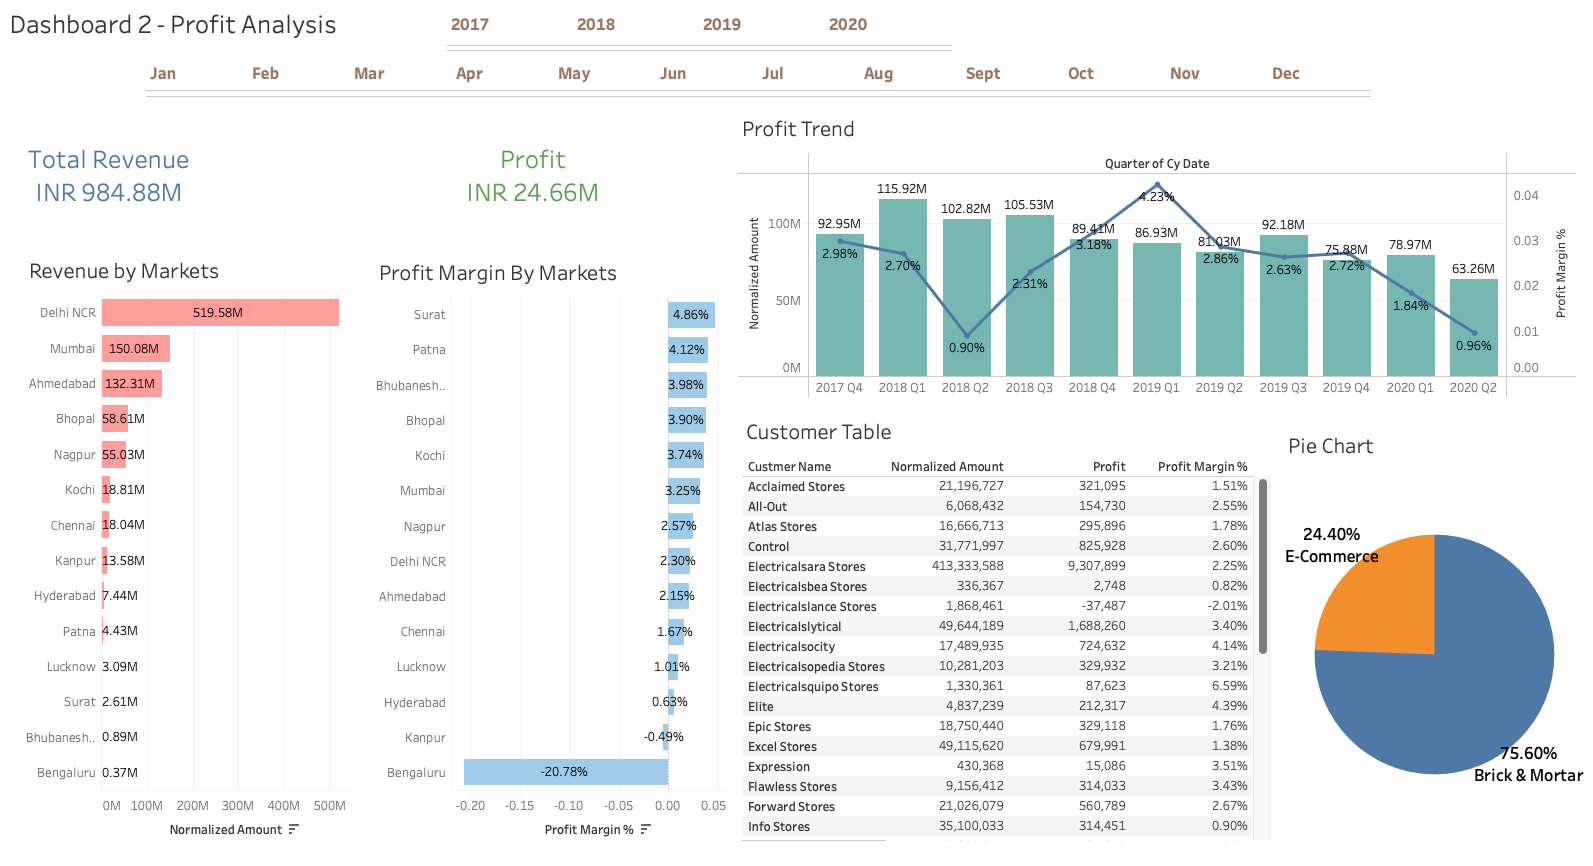

Layout of this report page (visuals, bound fields, positions):
{"tool":"tableau","page":{"name":"Dashboard 2 - Profit Analysis","canvas":[1600,900],"ordinal":1},"visuals":[{"type":"title","box":[8,8,1584,42]},{"type":"worksheet","title":"Year","mark":"Automatic","cols":["cy_date"],"box":[452,8,530,53]},{"type":"worksheet","title":"Month","mark":"Automatic","cols":["cy_date"],"box":[151,61,1266,43]},{"type":"worksheet","title":"Profit Trend","mark":"Bar","rows":["Calculation_0072405700927488","Calculation_0677825574338560"],"cols":["cy_date"],"box":[743,115,840,288]},{"type":"worksheet","title":"Profit","mark":"Automatic","box":[458,141,189,97]},{"type":"worksheet","title":"Revenue","mark":"Automatic","box":[24,147,275,91]},{"type":"worksheet","title":"Revenue by Markets","mark":"Automatic","rows":["markets_name"],"cols":["Calculation_0072405700927488"],"box":[30,257,326,593]},{"type":"worksheet","title":"Profit Margin By Markets","mark":"Automatic","rows":["markets_name"],"cols":["Calculation_0677825574338560"],"box":[380,259,353,591]},{"type":"worksheet","title":"Customer Table","mark":"Automatic","rows":["custmer_name"],"box":[747,418,532,428]},{"type":"worksheet","title":"Pie Chart","mark":"Pie","box":[1289,432,301,412]}]}

Visuals, with their boxes on the page's 1600x900 design canvas (x1, y1, x2, y2). These are canvas units, not pixel positions in the 1593x866 screenshot, which may show the page scaled, cropped or inside an application window:
title: [x1=8, y1=8, x2=1592, y2=50]
"Year" worksheet: [x1=452, y1=8, x2=982, y2=61]
"Month" worksheet: [x1=151, y1=61, x2=1417, y2=104]
"Profit Trend" worksheet (Bar marks): [x1=743, y1=115, x2=1583, y2=403]
"Profit" worksheet: [x1=458, y1=141, x2=647, y2=238]
"Revenue" worksheet: [x1=24, y1=147, x2=299, y2=238]
"Revenue by Markets" worksheet: [x1=30, y1=257, x2=356, y2=850]
"Profit Margin By Markets" worksheet: [x1=380, y1=259, x2=733, y2=850]
"Customer Table" worksheet: [x1=747, y1=418, x2=1279, y2=846]
"Pie Chart" worksheet (Pie marks): [x1=1289, y1=432, x2=1590, y2=844]
